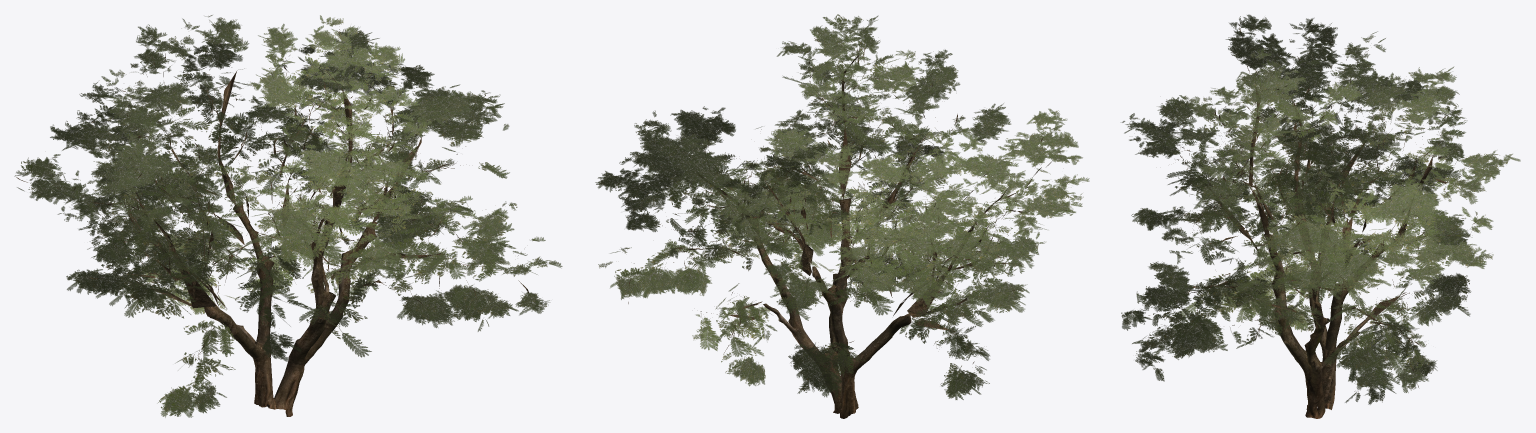
Rendered from gtree_maple.glb.
The picture shows the model from 3 angles, left to right: view 1: azimuth 30°, elevation 25°; view 2: azimuth 150°, elevation 25°; view 3: azimuth 270°, elevation 25°; orthographic projection. The views are drawn at different scales.
Parts seen in each view (by area): view 1: gtree_maple_v0_lod0; view 2: gtree_maple_v0_lod0; view 3: gtree_maple_v0_lod0.
Boxes of the visible parts, x1,y1,x2,y2 form: gtree_maple_v0_lod0: (14, 15, 562, 417); gtree_maple_v0_lod0: (595, 14, 1089, 418); gtree_maple_v0_lod0: (1121, 14, 1520, 418).
Size of what is drawn, in the model's own units: 8.24 by 6.42 by 6.45.
3 materials, 3 textured.
